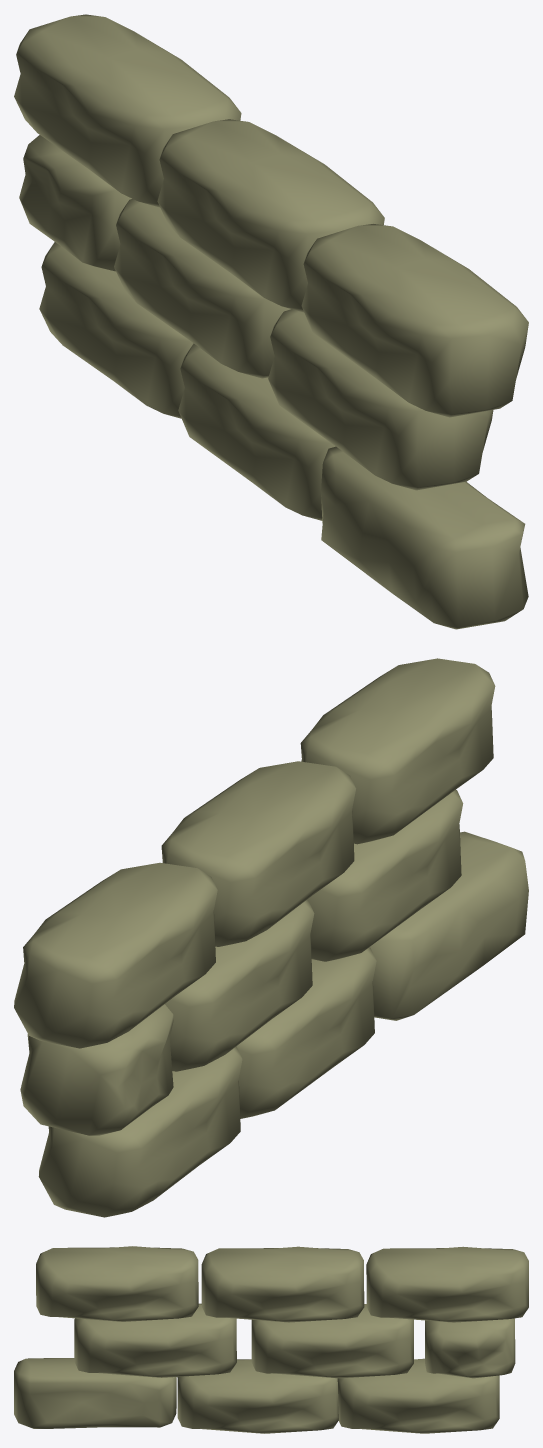
Rendered from PR_MuroPiedra.fbx.
3 renders of one model, top to bottom at view 1: azimuth 30°, elevation 25°; view 2: azimuth 150°, elevation 25°; view 3: azimuth 270°, elevation 25°, orthographic. The views are drawn at different scales.
Visible parts, largest first — view 1: PR_MuroPiedras; view 2: PR_MuroPiedras; view 3: PR_MuroPiedras.
Boxes of the visible parts, bbox=[...] form: PR_MuroPiedras: bbox=[14, 14, 528, 629]; PR_MuroPiedras: bbox=[14, 658, 528, 1217]; PR_MuroPiedras: bbox=[14, 1246, 528, 1433].
Bounding box in the file's own units: 1.42 × 3 × 8.37.
